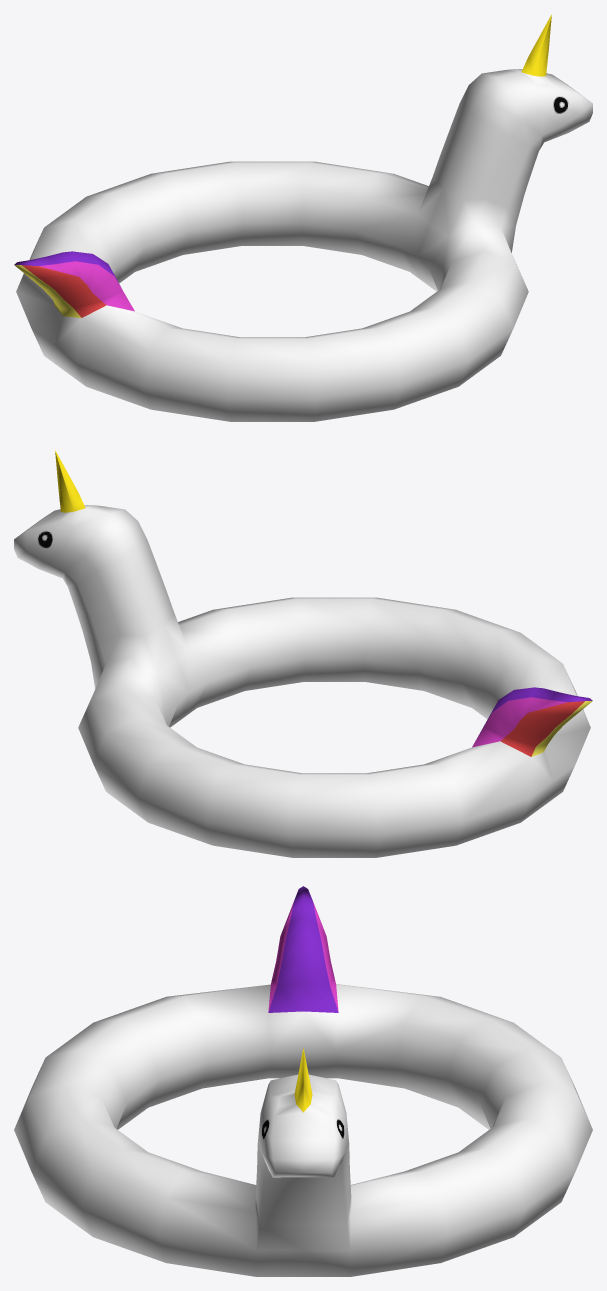
Rendered from Flotador.FBX.
3 views of the same model, one above another, from view 1: azimuth 30°, elevation 25°; view 2: azimuth 150°, elevation 25°; view 3: azimuth 270°, elevation 25° (orthographic). The views are drawn at different scales.
Visible parts, largest first — view 1: Flotador; view 2: Flotador; view 3: Flotador.
Boxes of the visible parts, x1,y1,x2,y2 form: Flotador: [14, 14, 592, 421]; Flotador: [14, 450, 592, 857]; Flotador: [14, 886, 592, 1276].
Size of the model in its own units: 46.86 by 19.79 by 36.73.
1 material, 1 textured.
